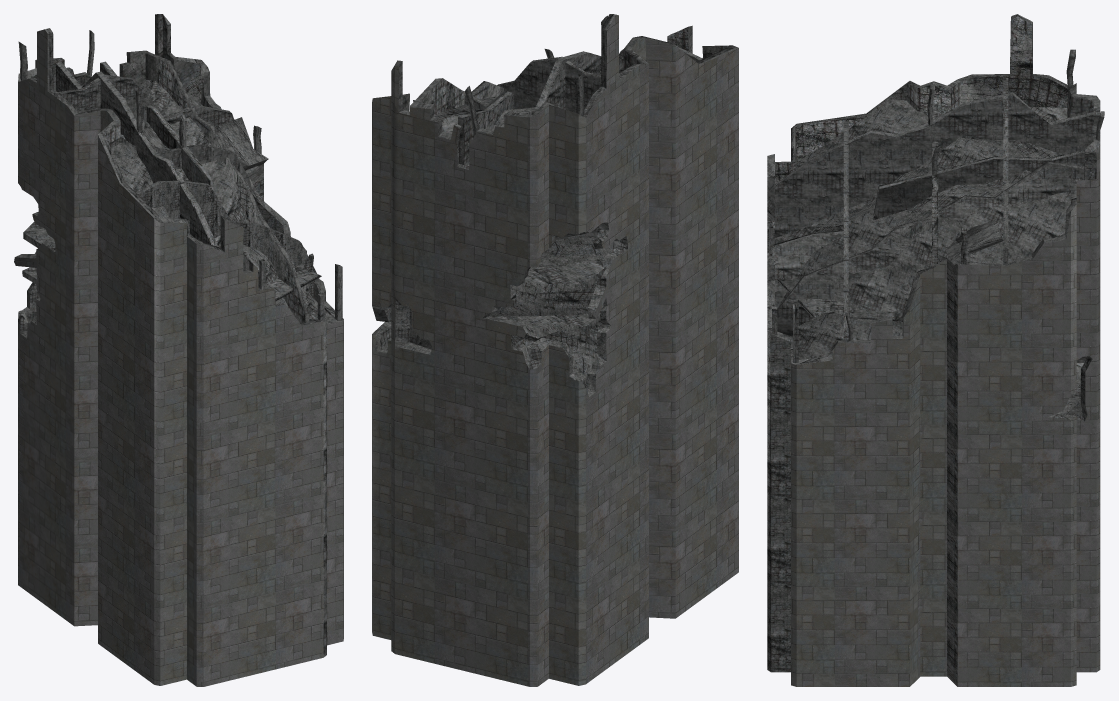
Rendered from Building_Broken3.fbx.
3 renders of one model, left to right at view 1: azimuth 30°, elevation 25°; view 2: azimuth 150°, elevation 25°; view 3: azimuth 270°, elevation 25°, orthographic. The views are drawn at different scales.
Visible parts, largest first — view 1: SMO_BG50_BUILD_UTZ_0010_a; view 2: SMO_BG50_BUILD_UTZ_0010_a; view 3: SMO_BG50_BUILD_UTZ_0010_a.
Boxes of the visible parts, box(x1,y1,x2,y2) form: SMO_BG50_BUILD_UTZ_0010_a: box(14, 14, 343, 686); SMO_BG50_BUILD_UTZ_0010_a: box(372, 14, 738, 686); SMO_BG50_BUILD_UTZ_0010_a: box(767, 14, 1104, 686).
Size of the model in its own units: 6963 by 19501 by 10295.
